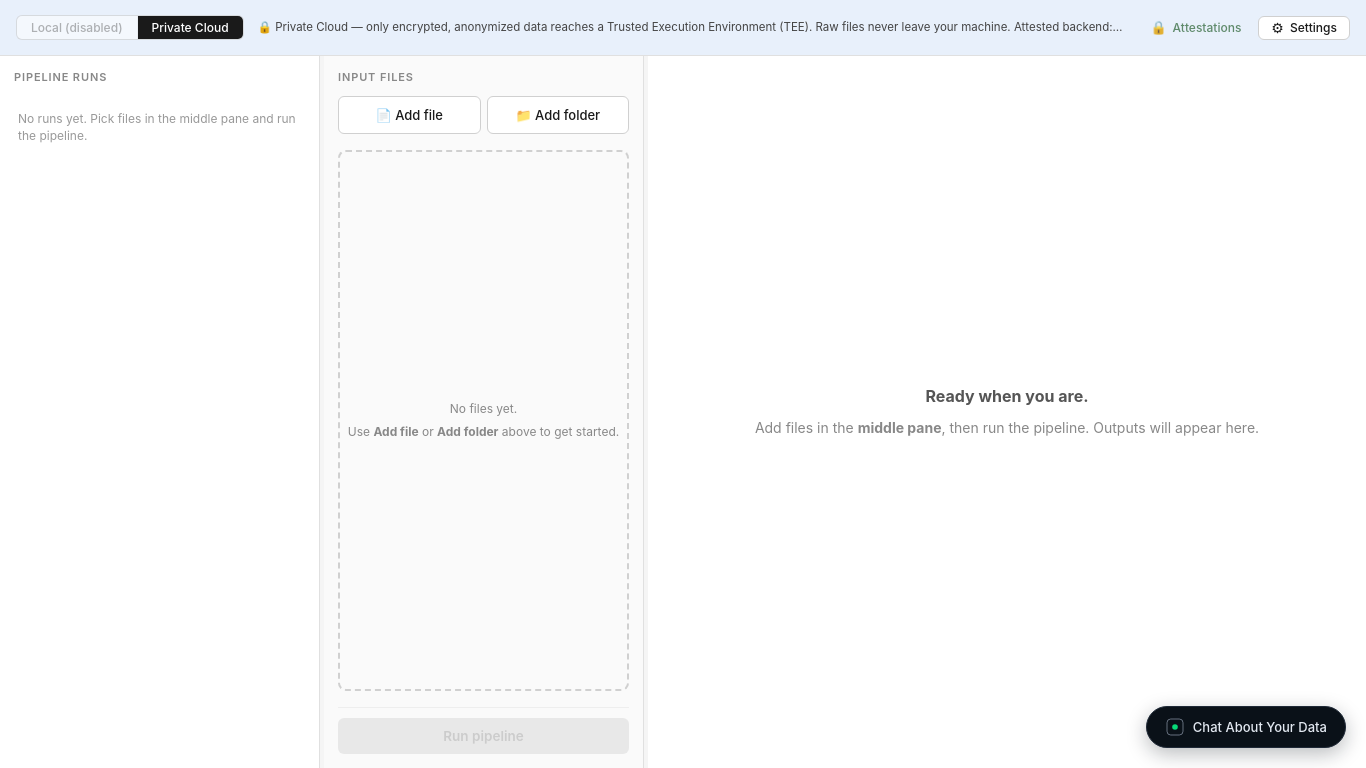
App — staging-time filter + ignored-files modal (issue #156) › file picker: oversized file gets 'too large' reason with correct MB
Expected: the text "Pipeline runs" is shown, [14, 70, 107, 86]
Click the button titled "Add file(s)" at (409, 115), box [338, 96, 480, 134]
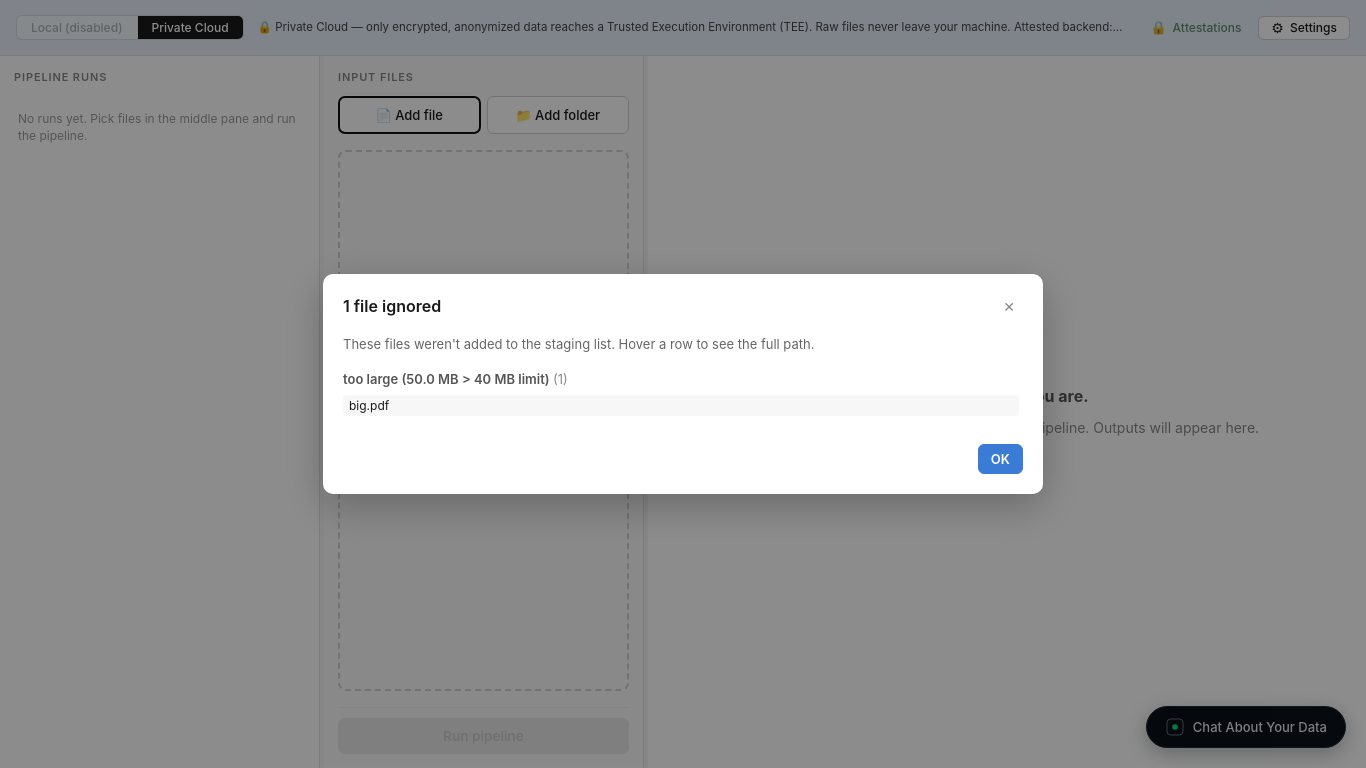
Now the heading "1 file ignored" is shown, box [343, 295, 441, 318]
Now the heading "too large (50.0 MB > 40 MB limit) (1)" is shown, box [343, 371, 568, 387]
